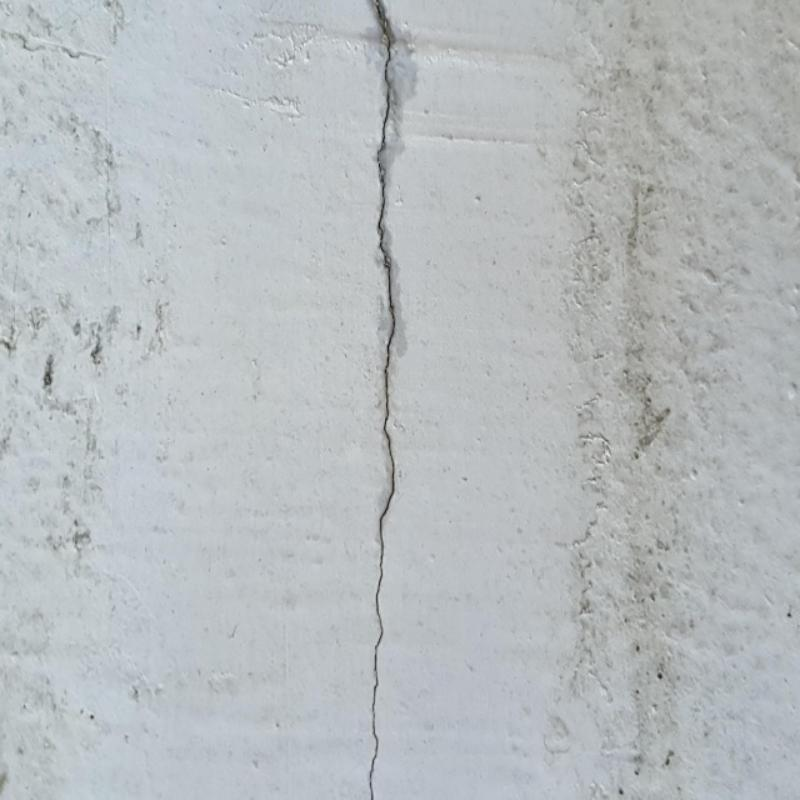crack: (368, 5, 397, 796)
